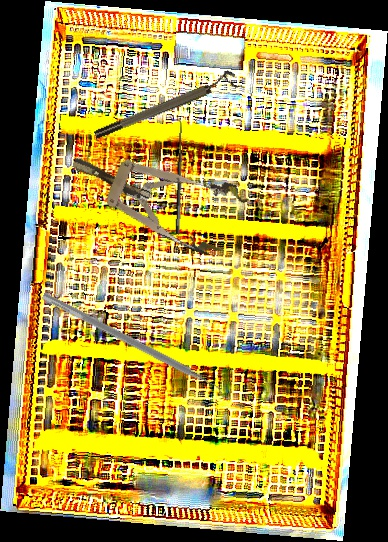Fixation Ring: (90, 68, 240, 142)
Hook Surgical: (166, 117, 186, 235)
Spatula Surgical: (37, 291, 231, 402)
Speculum: (60, 125, 251, 263)
